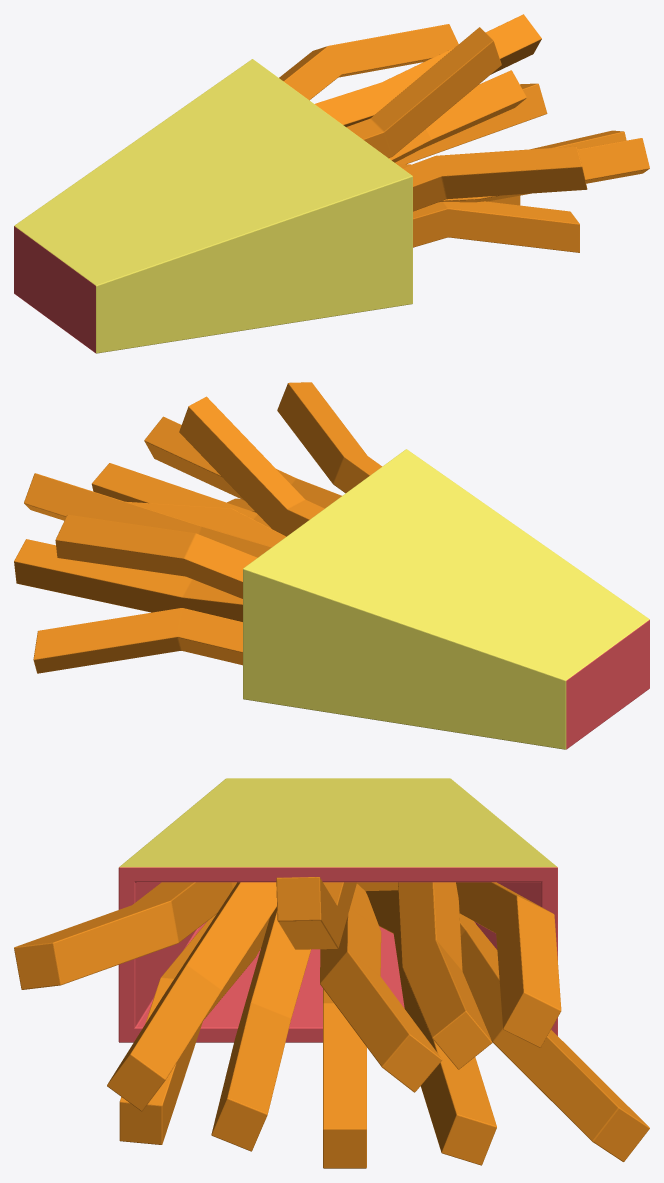
Rendered from SM_fries_1.fbx.
3 views of the same model, one above another, from view 1: azimuth 30°, elevation 25°; view 2: azimuth 150°, elevation 25°; view 3: azimuth 270°, elevation 25° (orthographic). The views are drawn at different scales.
Visible parts, largest first — view 1: SM_fries_1; view 2: SM_fries_1; view 3: SM_fries_1.
Boxes of the visible parts, x1,y1,x2,y2 form: SM_fries_1: (14,14,649,353); SM_fries_1: (14,382,649,749); SM_fries_1: (14,778,649,1168).
Bounding box in the file's own units: 18.59 × 14.01 × 6.66.
1 material, 1 textured.
